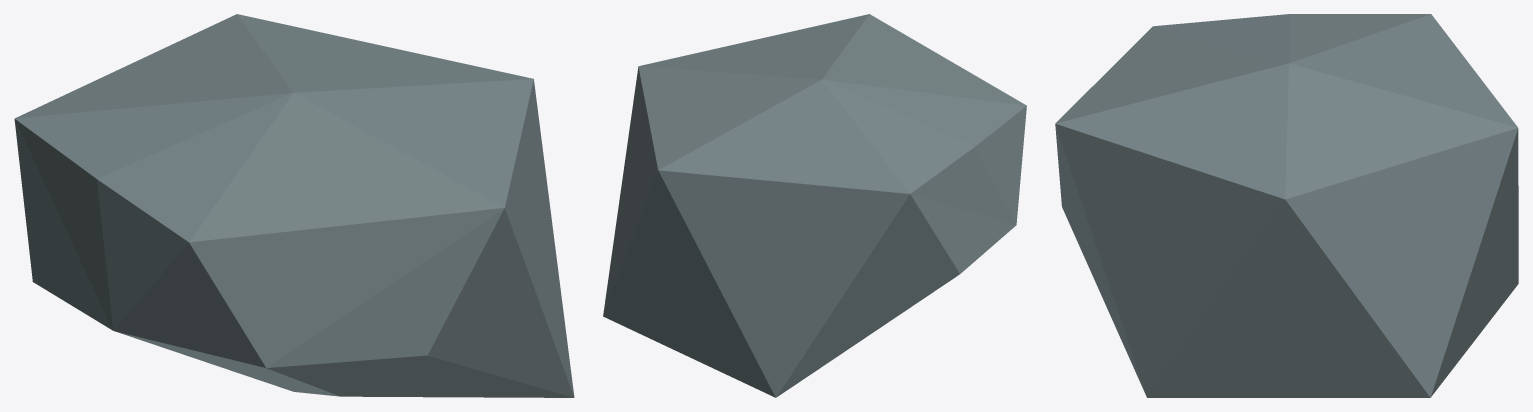
The model's file is Rock_01.fbx.
3 renders of one model, left to right at view 1: azimuth 30°, elevation 25°; view 2: azimuth 150°, elevation 25°; view 3: azimuth 270°, elevation 25°, orthographic. The views are drawn at different scales.
Parts seen in each view (by area): view 1: Rock_01; view 2: Rock_01; view 3: Rock_01.
Boxes of the visible parts, box(x1,y1,x2,y2) form: Rock_01: box(14, 14, 574, 397); Rock_01: box(603, 14, 1026, 397); Rock_01: box(1055, 14, 1518, 397).
Bounding box in the file's own units: 63.78 × 39.88 × 65.21.
